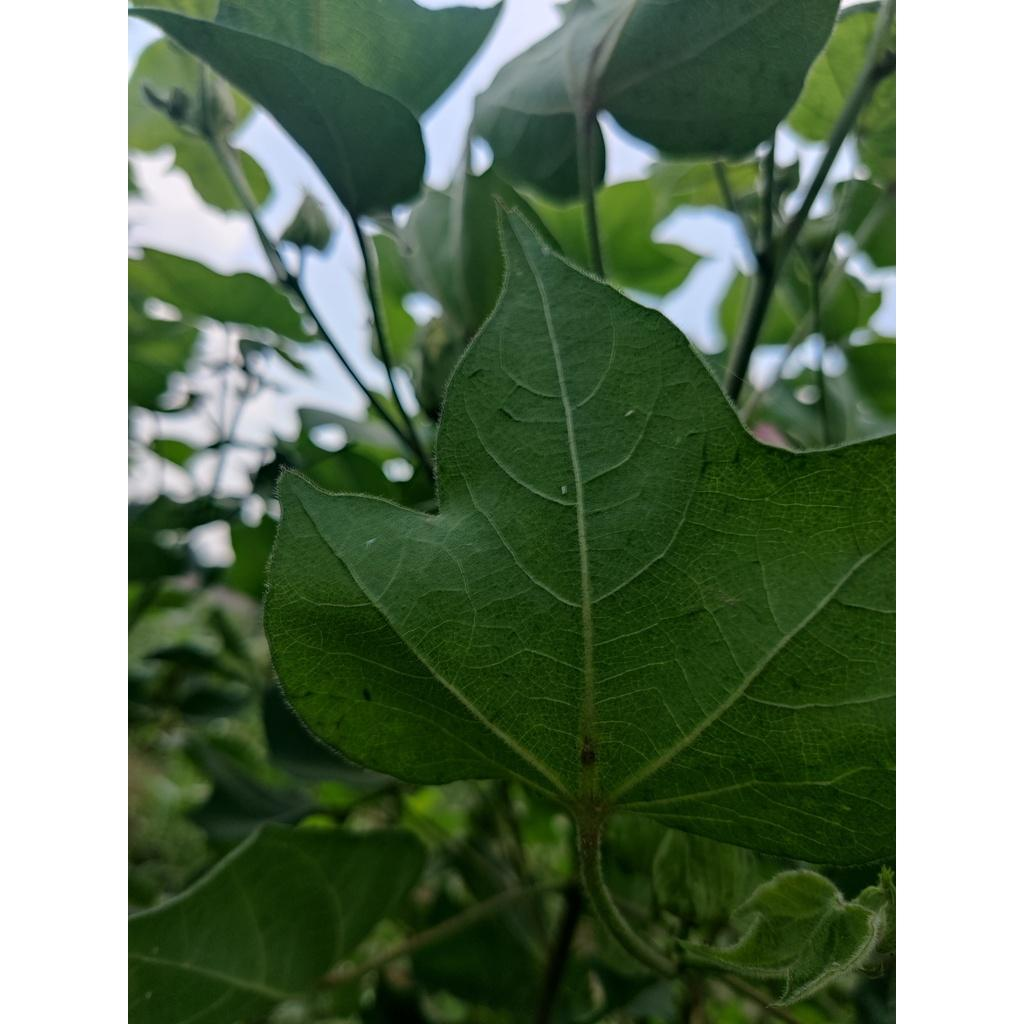adult: (365, 537, 377, 548), (624, 408, 635, 417), (560, 485, 568, 495)
